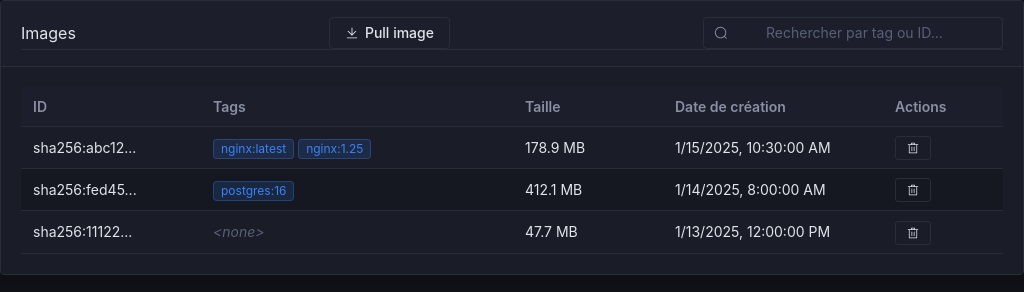
Scenario: Images.vue › filters images by tag
Step 1. Type "nginx" into the field with placeholder "Rechercher par tag ou ID..." → point(864, 33), box [736,18,992,48]
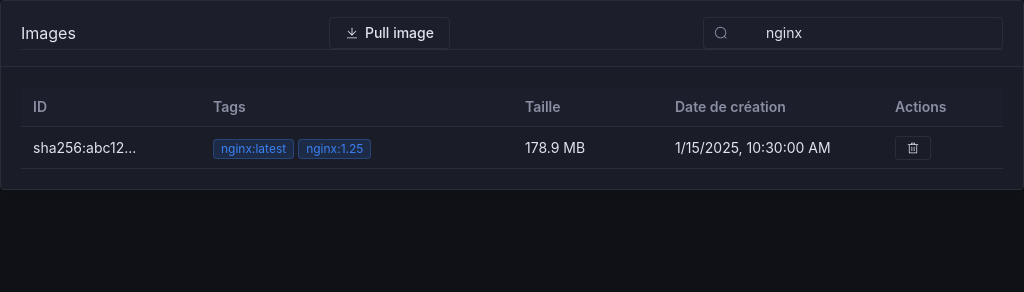
Expected: the text "nginx:latest" is shown, [221,143,286,155]
Expected: the text "postgres:16" is gone
